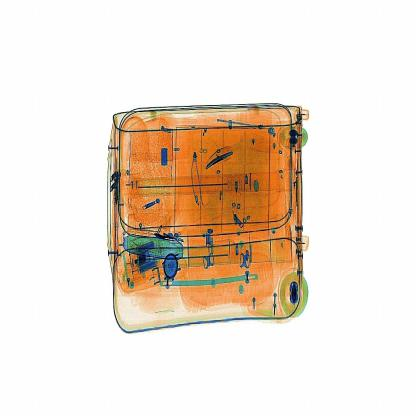pliers: (200, 128, 242, 180)
